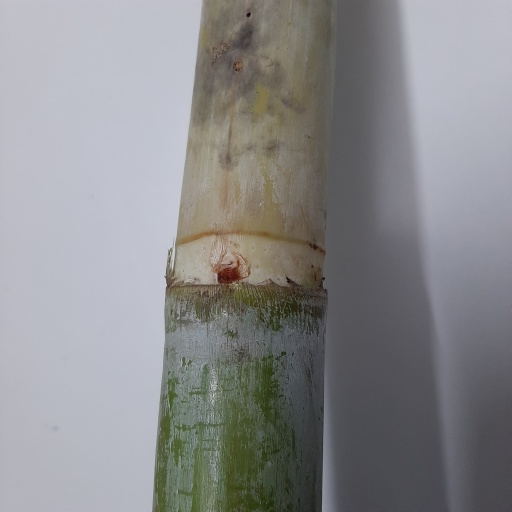Damage_Bud: (216, 253, 245, 285)
